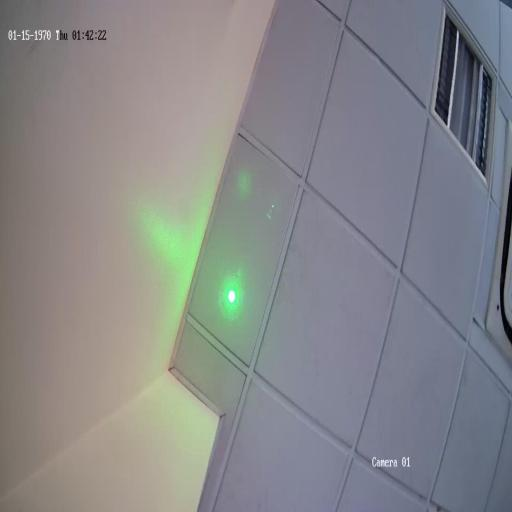laser: (218, 268, 245, 321)
